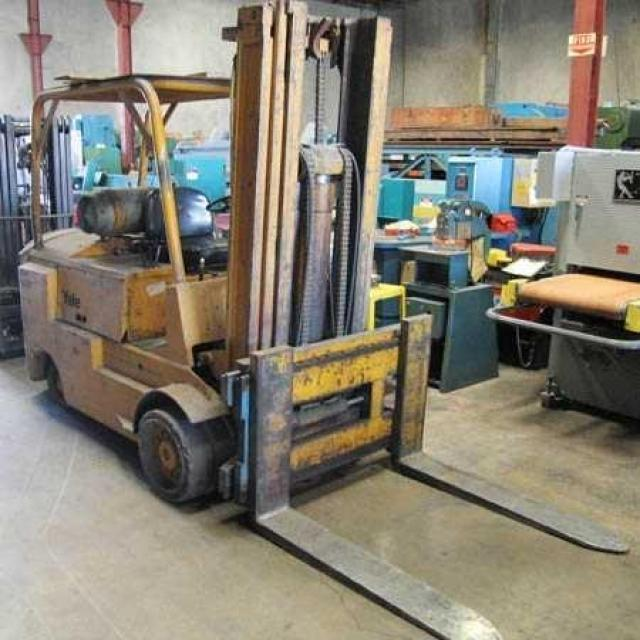forklift: (0, 0, 428, 517)
